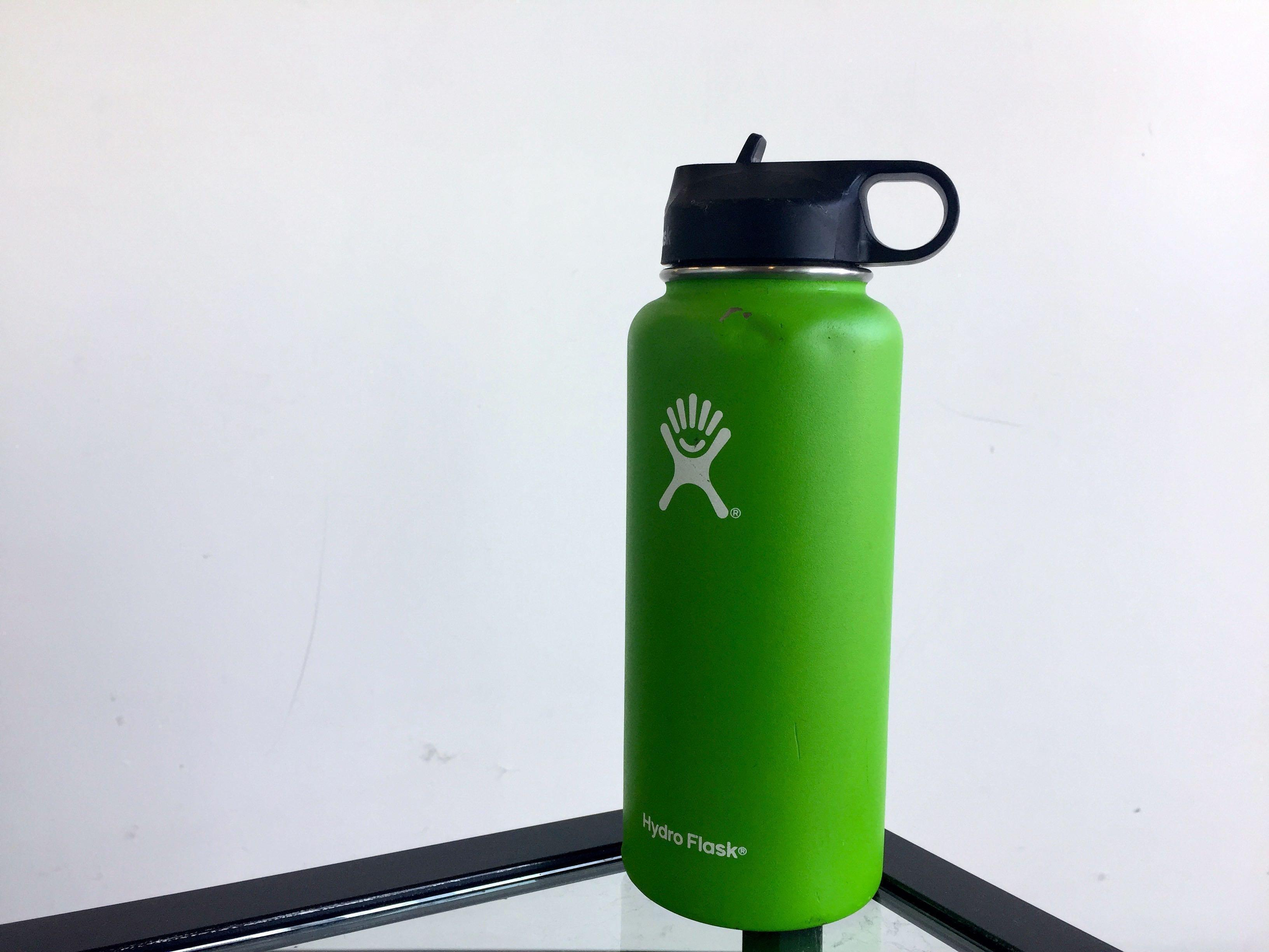gym bottle: (618, 129, 960, 936)
